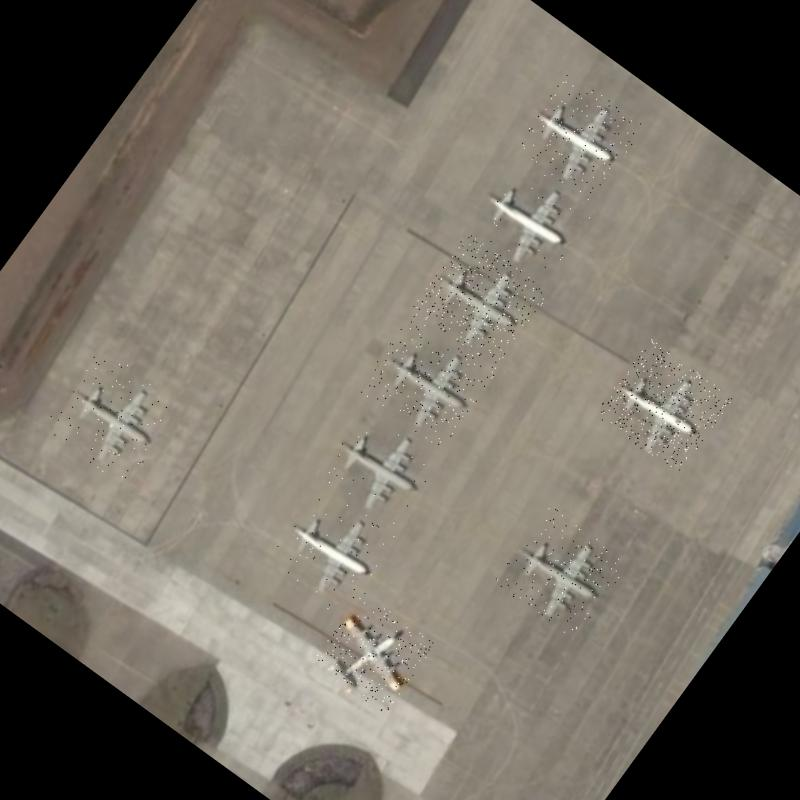A2: (311, 592, 435, 714)
A9: (42, 346, 184, 488), (356, 312, 497, 450), (410, 232, 550, 370), (594, 338, 732, 475), (493, 504, 630, 640), (264, 484, 398, 619), (512, 70, 644, 204), (314, 400, 446, 533), (467, 156, 597, 284)
